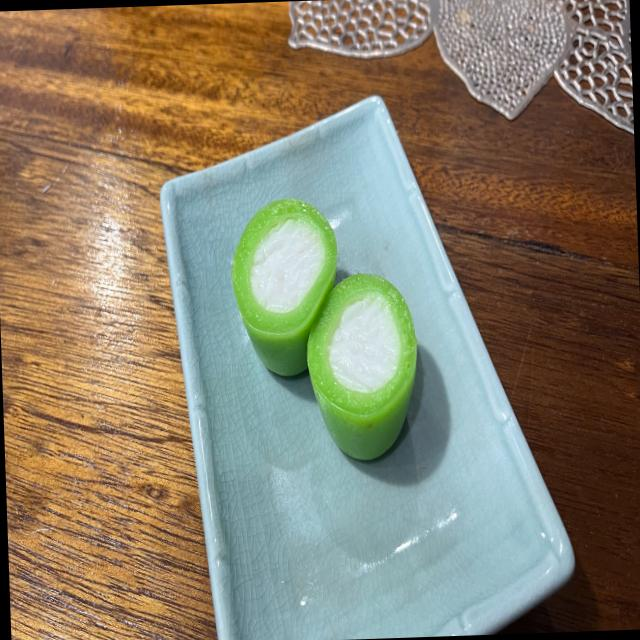nona-manis: (307, 274, 417, 459), (231, 199, 337, 375)
